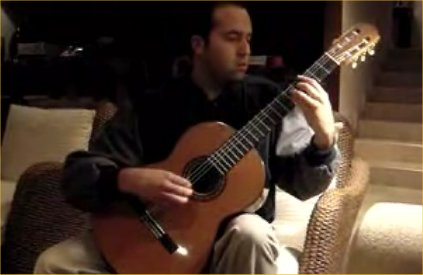guitar: (99, 21, 382, 275)
